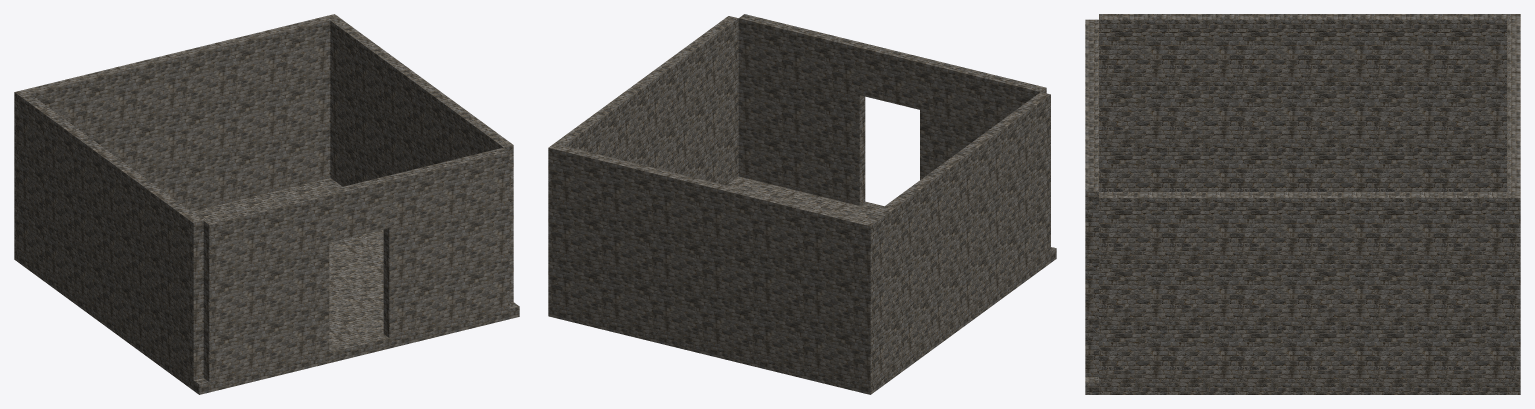
Rendered from Square_Room_6m.glb.
3 renders of one model, left to right at view 1: azimuth 30°, elevation 25°; view 2: azimuth 150°, elevation 25°; view 3: azimuth 270°, elevation 25°, orthographic. The views are drawn at different scales.
Visible parts, largest first — view 1: north, side, door_jamb, door_jamb.001, side.001, floor, door_lintel; view 2: north, side, door_jamb.001, side.001, door_jamb, floor, door_lintel; view 3: side.001, side, floor, north, door_jamb.001, door_jamb, door_lintel.
Part boxes in pixels (x1,y1,x2,y2): north: (14,14,339,252); side: (20,94,203,380); door_jamb: (203,191,329,381); door_jamb.001: (383,147,509,337); side.001: (330,18,513,302); floor: (14,177,519,394); door_lintel: (324,177,389,242); north: (548,143,876,384); side: (867,92,1050,379); door_jamb.001: (738,14,865,205); side.001: (554,16,738,185); door_jamb: (920,58,1046,179); floor: (548,176,1056,394); door_lintel: (859,43,925,109); side.001: (1099,192,1506,382); side: (1099,14,1506,191); floor: (1085,377,1520,394); north: (1507,14,1520,382); door_jamb.001: (1085,123,1098,376); door_jamb: (1085,19,1098,88); door_lintel: (1085,88,1098,122).
Bounding box in the file's own units: 6.4 × 3.2 × 6.4.
Materials: 1 (1 with a texture image).
